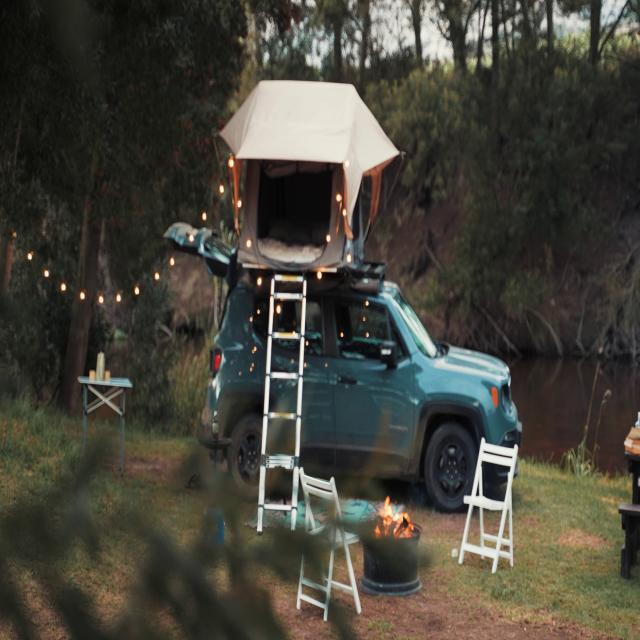Fire: (377, 489, 413, 542)
